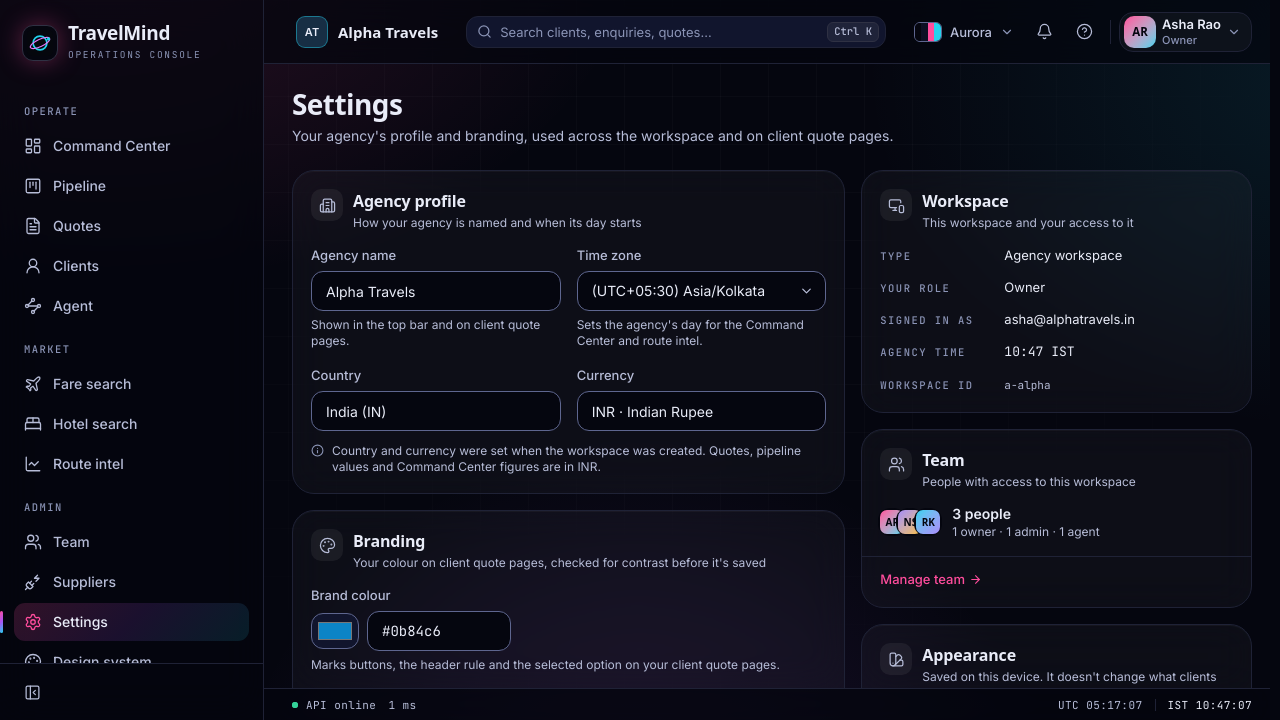
the saved toast survives the form re-reading the new profile
Replace the text in the field labelled "Agency name" with "Alpha Three" at (436, 291), box [311,271,561,311]
(page scrolled)
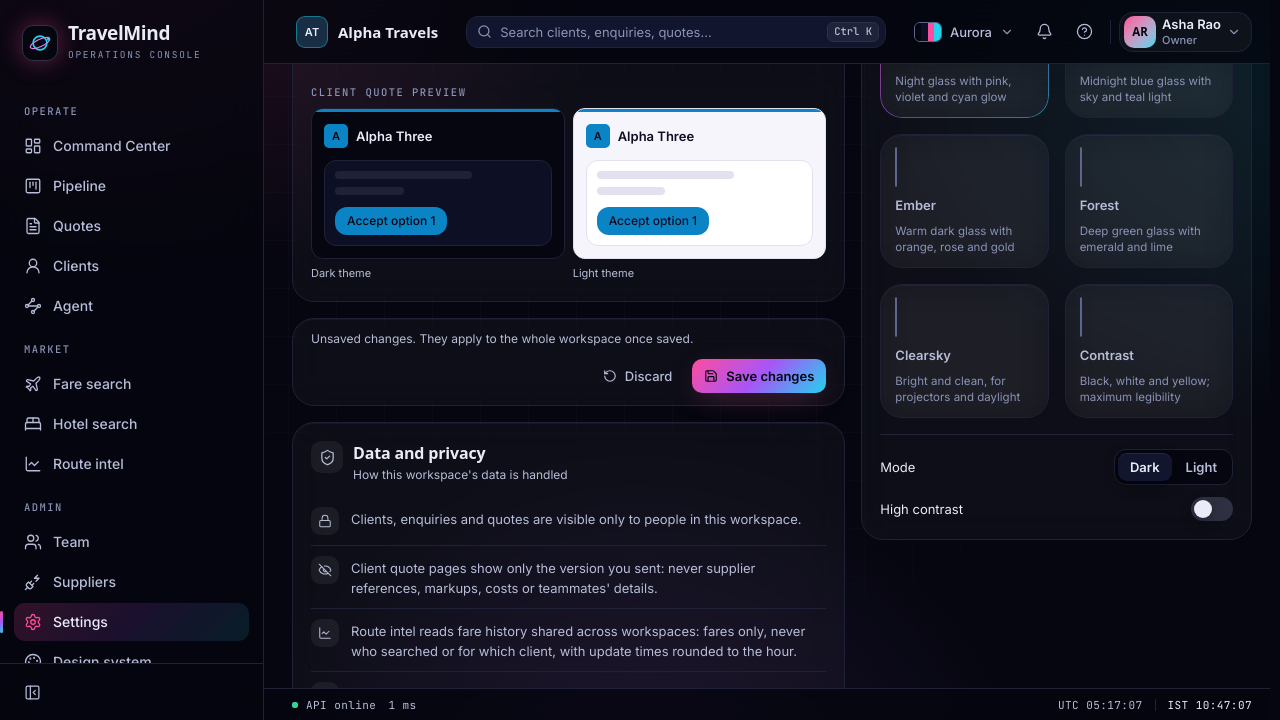
Click the button "Save changes" at (759, 376), box [692,359,826,393]
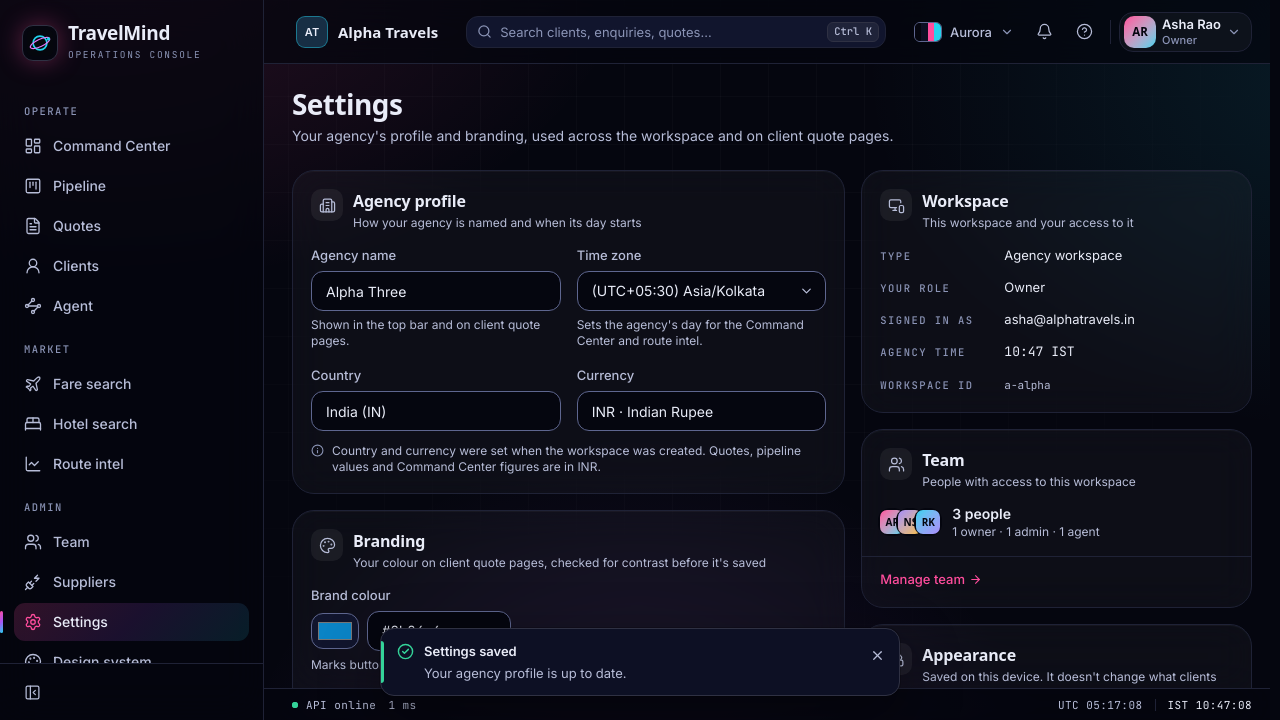
Expected: the text "Settings saved" is shown once, [424,643,517,659]
